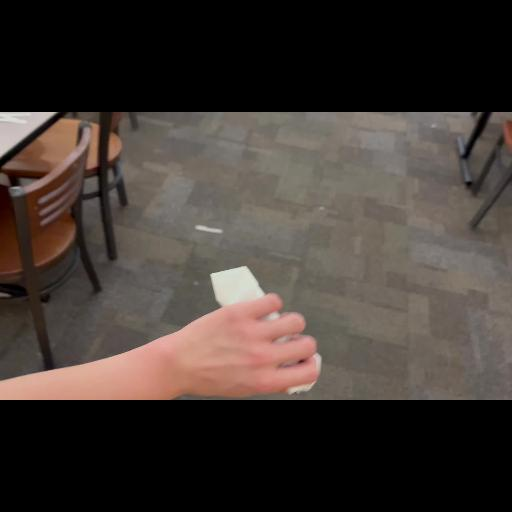napkin: (204, 259, 350, 395)
